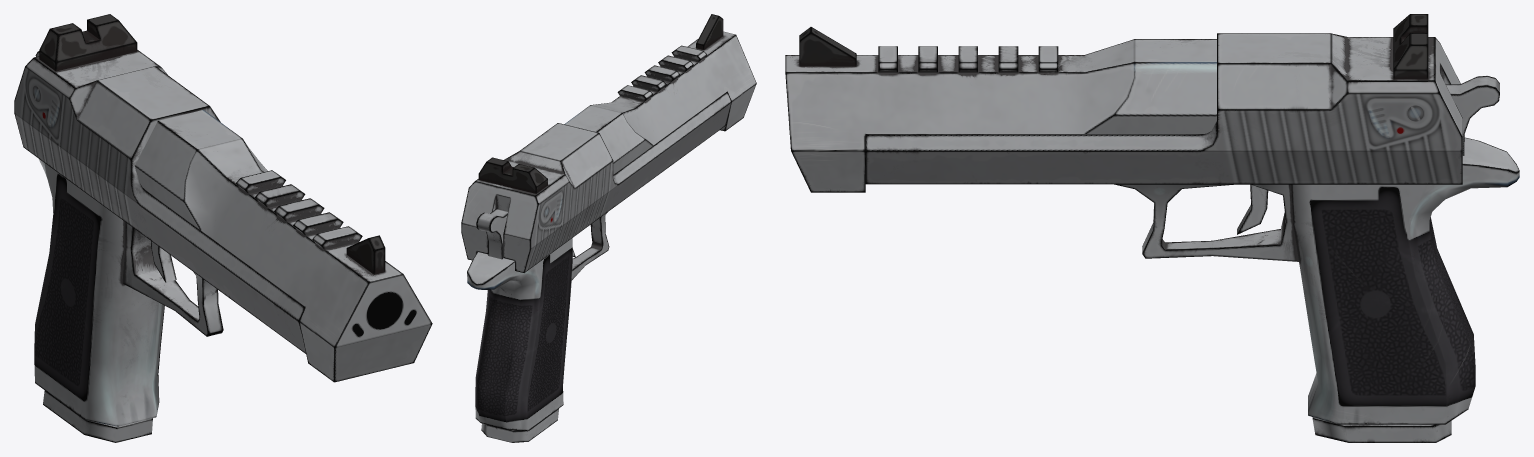
File: DesertEagle.fbx
3 renders of one model, left to right at view 1: azimuth 30°, elevation 25°; view 2: azimuth 150°, elevation 25°; view 3: azimuth 270°, elevation 25°, orthographic. The views are drawn at different scales.
Parts seen in each view (by area): view 1: DesertEagle; view 2: DesertEagle; view 3: DesertEagle.
Part boxes in pixels (bbox=[...]): DesertEagle: bbox=[14, 14, 432, 442]; DesertEagle: bbox=[461, 14, 756, 442]; DesertEagle: bbox=[785, 14, 1519, 442].
Bounding box in the file's own units: 44.49 × 163 × 274.
